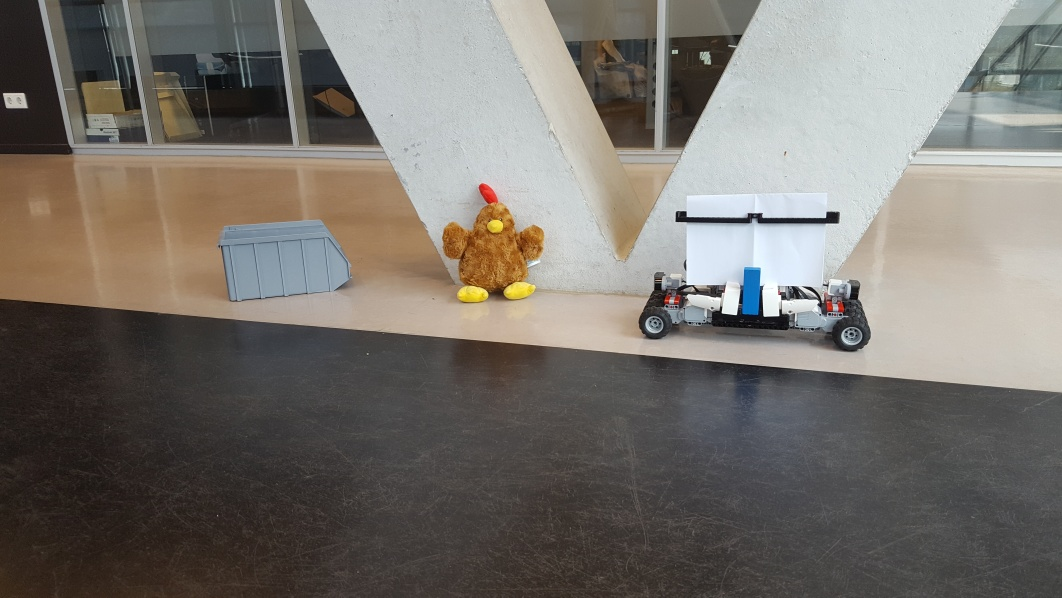beam: (742, 264, 760, 321)
chicken: (441, 181, 546, 300)
tray: (216, 218, 353, 302)
